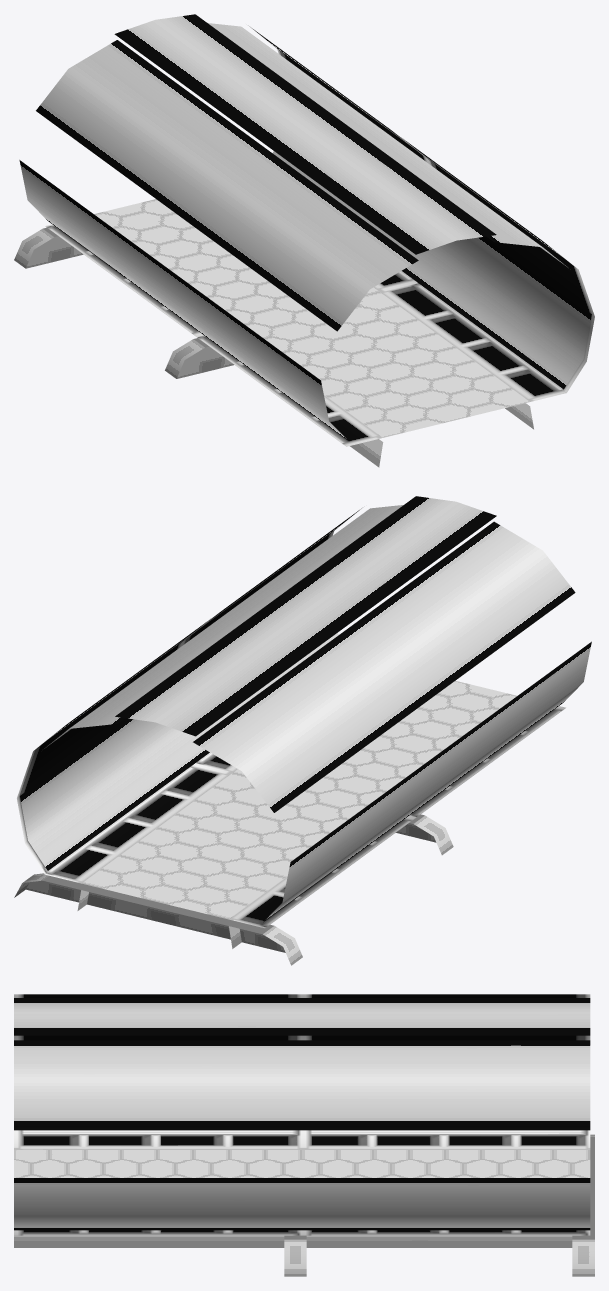
The model's file is MARINE3-1.obj.
The picture shows the model from 3 angles, top to bottom: view 1: azimuth 30°, elevation 25°; view 2: azimuth 150°, elevation 25°; view 3: azimuth 270°, elevation 25°; orthographic projection. The views are drawn at different scales.
Visible parts, largest first — view 1: polygon16, polygon3, polygon5, polygon4, polygon2; view 2: polygon16, polygon3, polygon5, polygon2, polygon4; view 3: polygon16, polygon3, polygon5, polygon2, polygon4.
Boxes of the visible parts, left/top/right/bottom form: polygon16: left=19, top=14, right=591, bottom=440; polygon3: left=94, top=199, right=529, bottom=437; polygon5: left=45, top=224, right=566, bottom=446; polygon4: left=246, top=24, right=594, bottom=392; polygon2: left=14, top=227, right=533, bottom=467; polygon16: left=20, top=496, right=591, bottom=922; polygon3: left=82, top=680, right=516, bottom=919; polygon5: left=45, top=706, right=565, bottom=928; polygon2: left=14, top=814, right=453, bottom=965; polygon4: left=17, top=506, right=364, bottom=874; polygon16: left=14, top=998, right=590, bottom=1230; polygon3: left=14, top=1150, right=590, bottom=1177; polygon5: left=14, top=1133, right=590, bottom=1235; polygon2: left=14, top=1134, right=594, bottom=1276; polygon4: left=14, top=994, right=590, bottom=1132.
Size of the model in its own units: 2.12 by 1.52 by 4.03.
